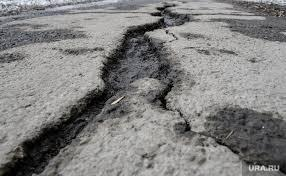crack: (205, 103, 284, 173)
pothole: (0, 5, 193, 176)
